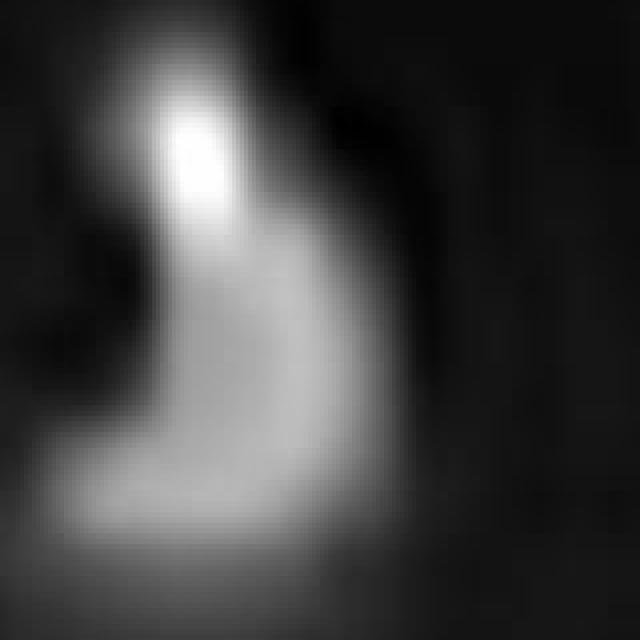person: (41, 18, 414, 557)
